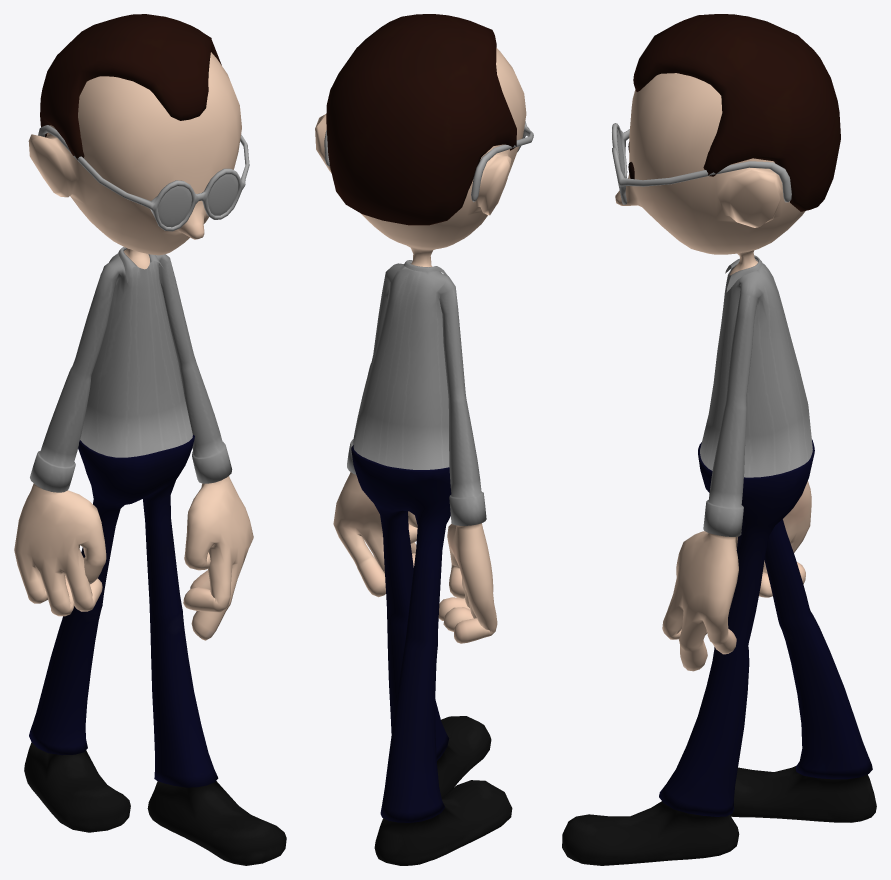
The model's file is Animation_Cartoon_Starter_000093.obj.
3 renders of one model, left to right at view 1: azimuth 30°, elevation 25°; view 2: azimuth 150°, elevation 25°; view 3: azimuth 270°, elevation 25°, orthographic. The views are drawn at different scales.
Parts seen in each view (by area): view 1: bm_09; view 2: bm_09; view 3: bm_09.
Part boxes in pixels (x1,y1,x2,y2): bm_09: (14,14,286,865); bm_09: (315,14,533,865); bm_09: (562,14,876,865).
Bounding box in the file's own units: 0.3919 × 1.51 × 0.53.
3 materials, 1 textured.
